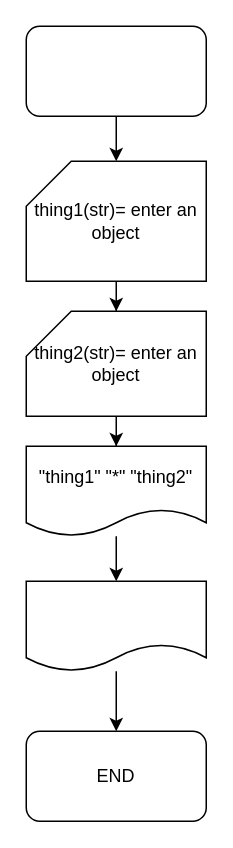
Image size: 233x848. Some labels were removed from this diagram. Here are the shapes that lost their labels. From the top down, the centre of each, then its label:
the point at 115,70: START
the point at 115,625: "thing1" "-" "thing2"
